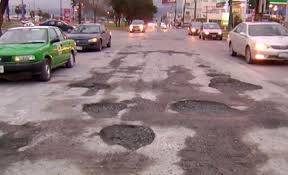pothole: (0, 116, 44, 155), (92, 122, 160, 147), (167, 95, 249, 114), (77, 97, 130, 116), (206, 75, 262, 90), (66, 79, 112, 94), (203, 70, 230, 77), (198, 62, 211, 67)
